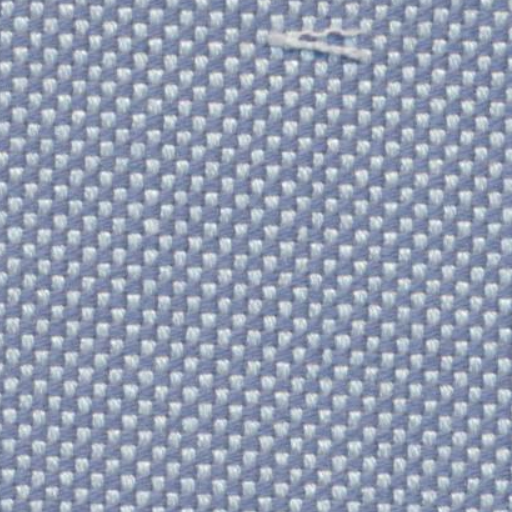DuanSha: (244, 14, 386, 78)
